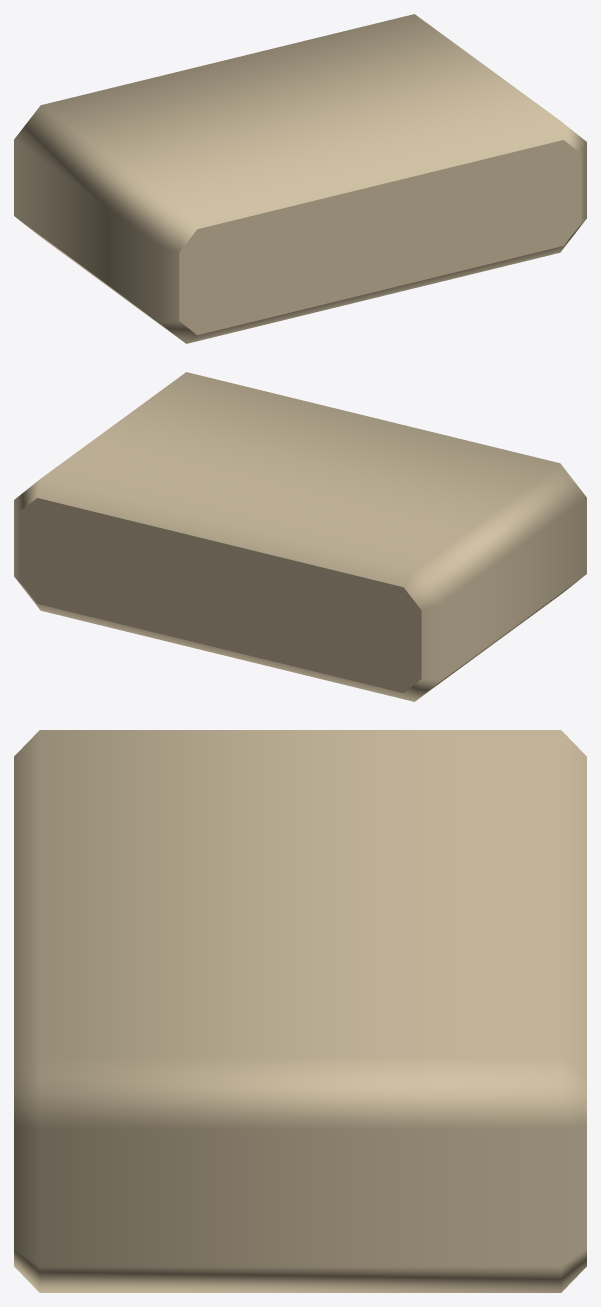
File: t60_cabinet.obj
The picture shows the model from 3 angles, top to bottom: view 1: azimuth 30°, elevation 25°; view 2: azimuth 150°, elevation 25°; view 3: azimuth 270°, elevation 25°; orthographic projection. The views are drawn at different scales.
Visible parts, largest first — view 1: t60_cabinet; view 2: t60_cabinet; view 3: t60_cabinet.
Part boxes in pixels (x1,y1,x2,y2): t60_cabinet: (14,14,586,343); t60_cabinet: (14,372,586,701); t60_cabinet: (14,730,586,1292).
Size of the model in its own units: 4.81 by 1.42 by 3.12.
